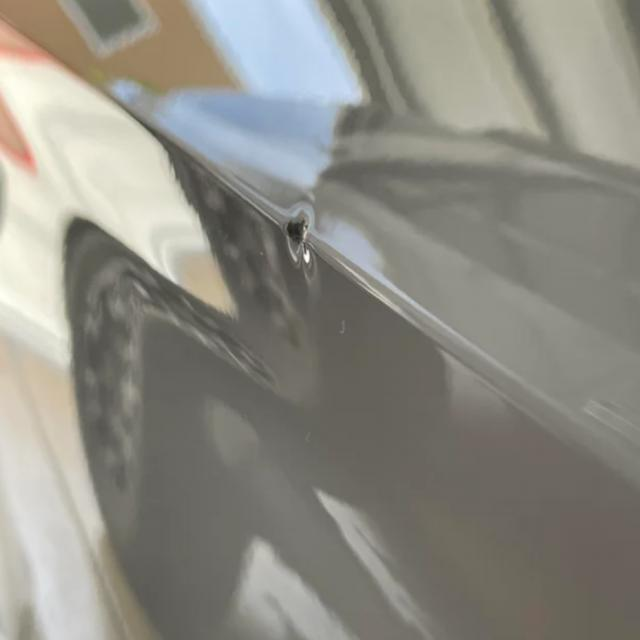dents: (235, 184, 344, 286)
